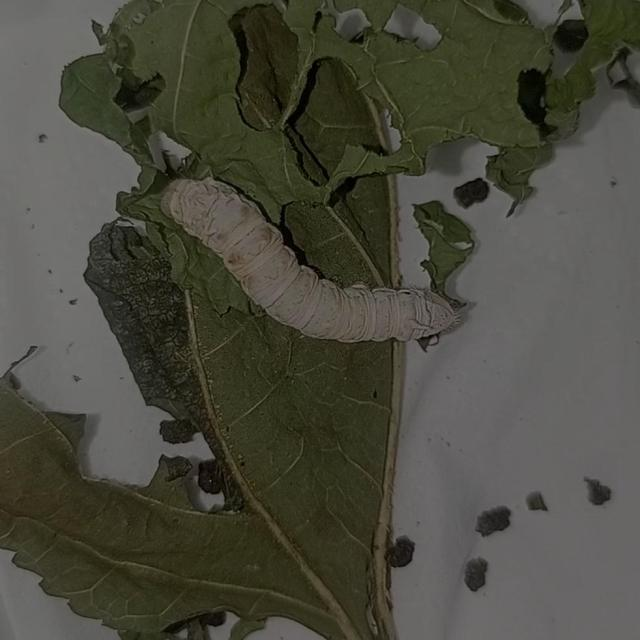Healthy: (155, 159, 464, 357)
